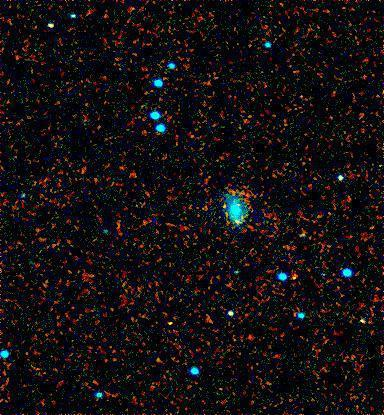star: (212, 187, 242, 217)
